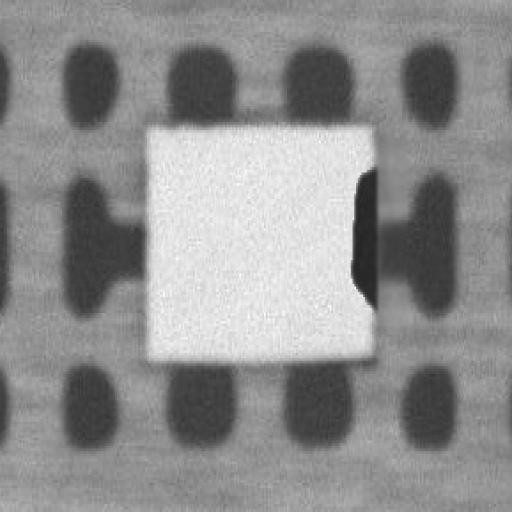DIE_BROKEN: (346, 154, 376, 310)
